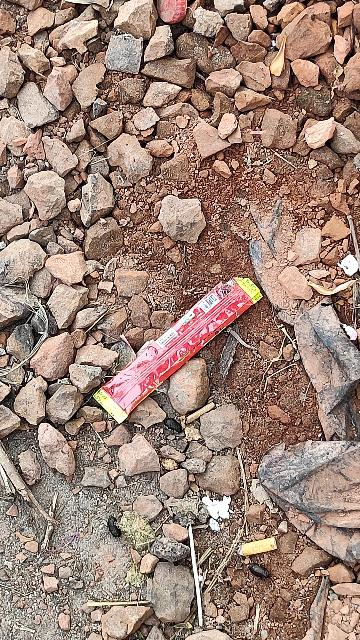packet: (78, 254, 287, 438)
